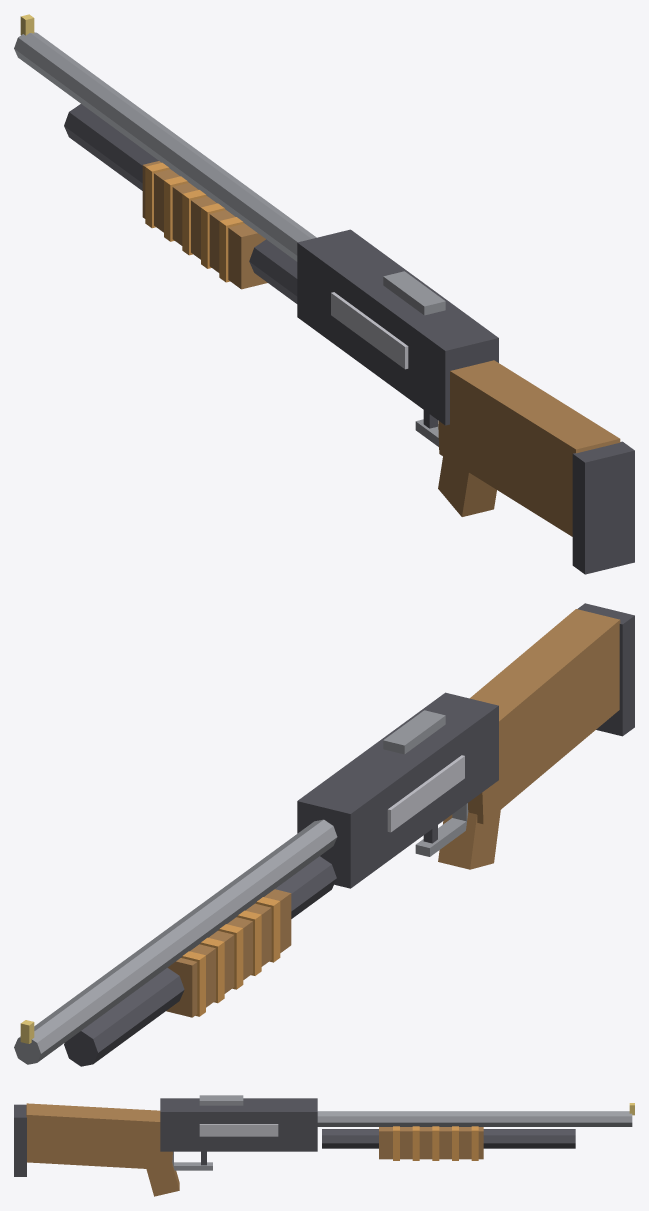
Rendered from shotgun.glb.
3 renders of one model, top to bottom at view 1: azimuth 30°, elevation 25°; view 2: azimuth 150°, elevation 25°; view 3: azimuth 270°, elevation 25°, orthographic. The views are drawn at different scales.
Parts seen in each view (by area): view 1: Shotgun; view 2: Shotgun; view 3: Shotgun.
Part boxes in pixels (<box>): Shotgun: <box>14,14,634,574</box>; Shotgun: <box>14,603,634,1066</box>; Shotgun: <box>14,1095,634,1196</box>.
Bounding box in the file's own units: 0.084 × 0.2386 × 1.42.
